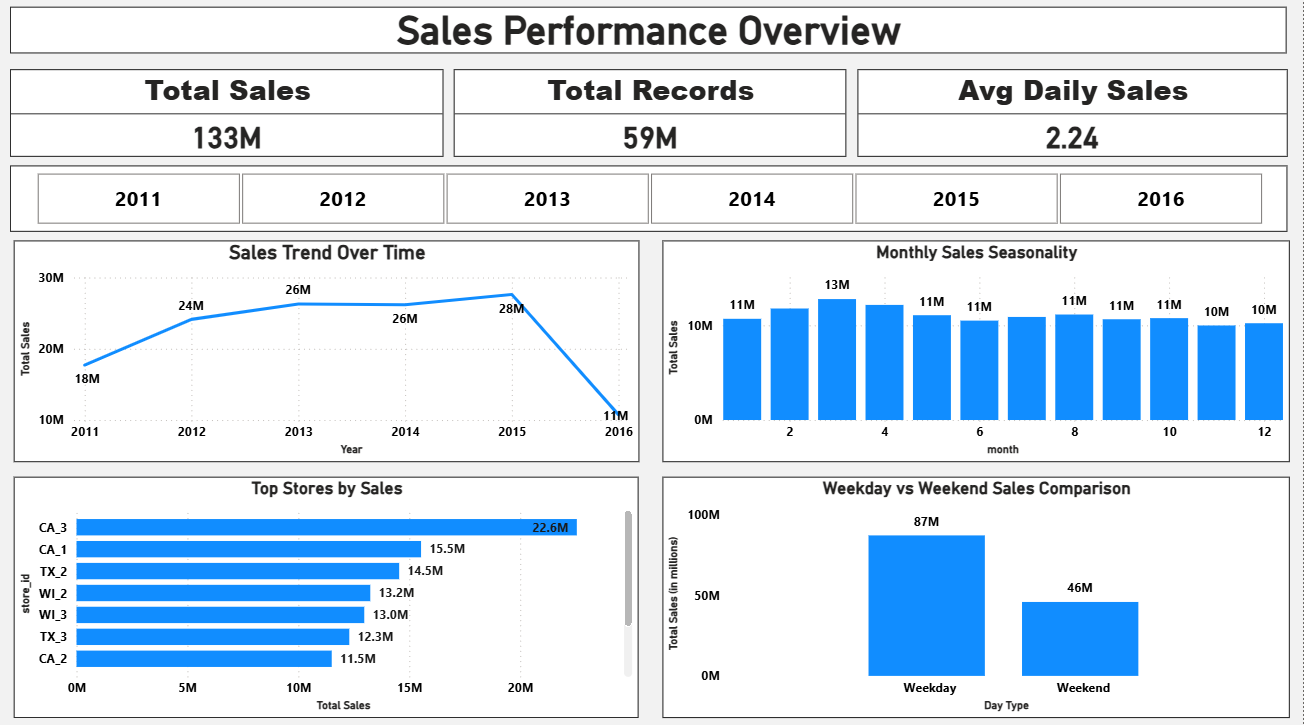

Layout of this report page (visuals, bound fields, positions):
{"tool":"powerbi","page":{"name":"sales overview","canvas":[1280,720],"ordinal":0},"visuals":[{"type":"card","title":"Total Sales","fields":{"Values":["clean_sales_data.Total Sales"]},"box":[14.7,74.6,424.3,85.6],"z":0},{"type":"card","title":"Avg Daily Sales","fields":{"Values":["clean_sales_data.Avg Daily Sales"]},"box":[843.8,74.6,420.7,85.6],"z":1000},{"type":"card","title":"Total Records","fields":{"Values":["clean_sales_data.Total Records"]},"box":[448.8,74.6,384,85.6],"z":2000},{"type":"lineChart","title":"Sales Trend Over Time","fields":{"Category":["clean_sales_data.date.Variation.Date Hierarchy.Year","clean_sales_data.date.Variation.Date Hierarchy.Quarter","clean_sales_data.date.Variation.Date Hierarchy.Month","clean_sales_data.date.Variation.Date Hierarchy.Day"],"Y":["clean_sales_data.Total Sales"]},"box":[17.8,241.5,612,216.8],"z":3000},{"type":"columnChart","title":"Monthly Sales Seasonality","fields":{"Category":["clean_sales_data.month"],"Y":["clean_sales_data.Total Sales"]},"box":[653.2,241.5,613.4,216.8],"z":4000},{"type":"barChart","title":"Top Stores by Sales","fields":{"Category":["clean_sales_data.store_id"],"Y":["clean_sales_data.Total Sales"]},"box":[18.3,473.2,611.4,236],"z":5000},{"type":"slicer","fields":{"Values":["clean_sales_data.year"]},"box":[14.7,168.8,1249.7,64.8],"z":6000},{"type":"clusteredColumnChart","title":"Weekday vs Weekend Sales Comparison","fields":{"Y":["clean_sales_data.Total Sales"],"Category":["clean_sales_data.Day Type"]},"box":[653.2,473.4,613.4,236],"z":7000},{"type":"textbox","title":"Sales Performance Overview","box":[15.1,13.7,1248.7,45.3],"z":8000}]}

Visuals, with their boxes in screenshot pixels (x1, y1, x2, y2), scaled from the page's 1280x720 canvas onto the 1304x725 screenshot:
"Total Sales" card: <region>15, 75, 447, 161</region>
"Avg Daily Sales" card: <region>860, 75, 1288, 161</region>
"Total Records" card: <region>457, 75, 848, 161</region>
"Sales Trend Over Time" lineChart: <region>18, 243, 642, 461</region>
"Monthly Sales Seasonality" columnChart: <region>665, 243, 1290, 461</region>
"Top Stores by Sales" barChart: <region>19, 476, 642, 714</region>
slicer - clean_sales_data.year: <region>15, 170, 1288, 235</region>
"Weekday vs Weekend Sales Comparison" clusteredColumnChart: <region>665, 477, 1290, 714</region>
"Sales Performance Overview" textbox: <region>15, 14, 1287, 59</region>
